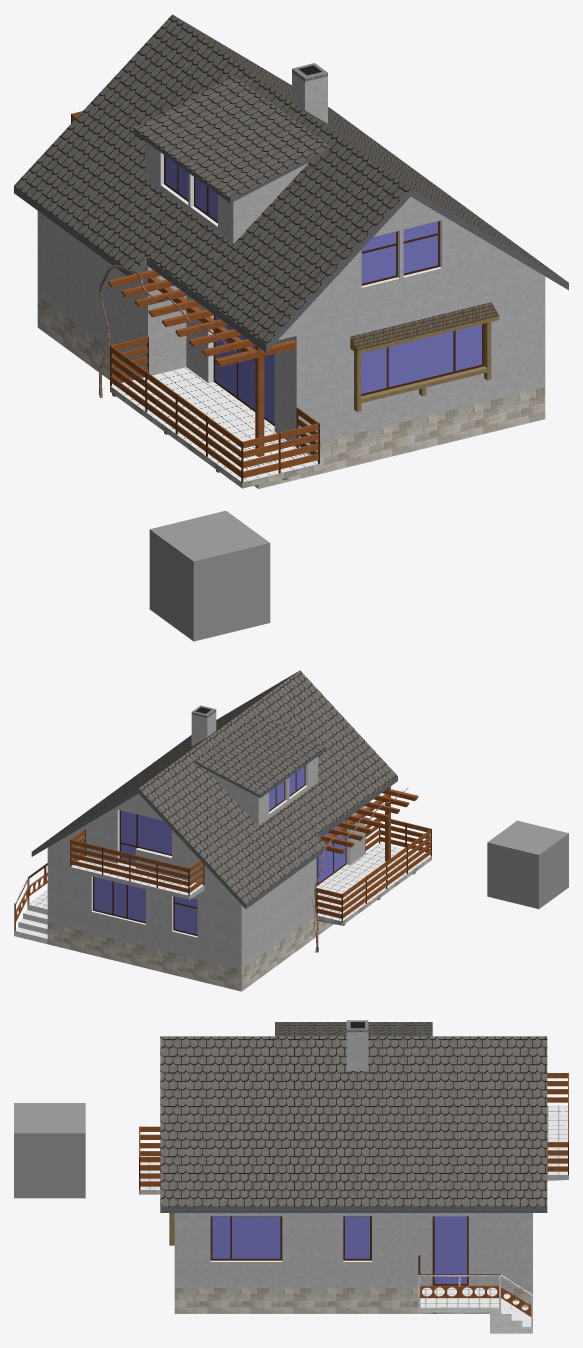
The model's file is house.obj.
3 renders of one model, top to bottom at view 1: azimuth 30°, elevation 25°; view 2: azimuth 150°, elevation 25°; view 3: azimuth 270°, elevation 25°, orthographic. The views are drawn at different scales.
Parts seen in each view (by area): view 1: group_0.009_ID3846, group_0.002_ID3777, Cube, group_0.330_ID4744, group_0.014_ID3885, group_0.271_ID4345, group_0.063_ID4255, group_0.280_ID4409, group_0.010_ID3859, group_0.413_ID5314, group_0.006_ID3819, group_0.004_ID3798 (+8 smaller); view 2: group_0.009_ID3846, group_0.002_ID3777, group_0.014_ID3885, Cube, group_0.330_ID4744, group_0.271_ID4345, group_0.280_ID4409, group_0.063_ID4255, group_0.010_ID3859, group_0.320_ID4675, group_0.290_ID4482, group_0.027_ID3997 (+7 smaller); view 3: group_0.009_ID3846, group_0.002_ID3777, group_0.014_ID3885, Cube, group_0.280_ID4409, group_0.450_ID5536, group_0.444_ID5500, group_0.330_ID4744, group_0.331_ID4752, group_0.290_ID4482, group_0.023_ID3966, group_0.318_ID4659 (+5 smaller).
Boxes of the visible parts, x1,y1,x2,y2 form: group_0.009_ID3846: [14, 14, 567, 344]; group_0.002_ID3777: [37, 196, 545, 447]; Cube: [149, 510, 270, 641]; group_0.330_ID4744: [133, 76, 330, 199]; group_0.014_ID3885: [37, 296, 545, 488]; group_0.271_ID4345: [111, 367, 317, 482]; group_0.063_ID4255: [108, 269, 296, 456]; group_0.280_ID4409: [14, 186, 568, 352]; group_0.010_ID3859: [145, 141, 308, 244]; group_0.413_ID5314: [388, 331, 453, 387]; group_0.006_ID3819: [350, 302, 499, 350]; group_0.004_ID3798: [350, 316, 499, 411]; group_0.009_ID3846: [33, 670, 397, 903]; group_0.002_ID3777: [47, 793, 365, 969]; group_0.014_ID3885: [14, 856, 431, 991]; Cube: [487, 820, 568, 908]; group_0.330_ID4744: [193, 712, 325, 795]; group_0.271_ID4345: [316, 843, 430, 921]; group_0.280_ID4409: [31, 776, 397, 908]; group_0.063_ID4255: [320, 786, 418, 861]; group_0.010_ID3859: [207, 756, 318, 825]; group_0.320_ID4675: [138, 814, 171, 854]; group_0.290_ID4482: [71, 856, 203, 895]; group_0.027_ID3997: [70, 867, 204, 899]; group_0.009_ID3846: [160, 1036, 547, 1206]; group_0.002_ID3777: [174, 1213, 532, 1287]; group_0.014_ID3885: [139, 1190, 532, 1333]; Cube: [14, 1103, 85, 1198]; group_0.280_ID4409: [160, 1206, 547, 1212]; group_0.450_ID5536: [434, 1216, 466, 1283]; group_0.444_ID5500: [232, 1216, 280, 1258]; group_0.330_ID4744: [275, 1022, 432, 1036]; group_0.331_ID4752: [420, 1287, 498, 1307]; group_0.290_ID4482: [547, 1105, 567, 1174]; group_0.023_ID3966: [345, 1216, 369, 1258]; group_0.318_ID4659: [346, 1032, 368, 1070].
Size of the model in its own units: 13.08 by 8.4 by 15.49.
